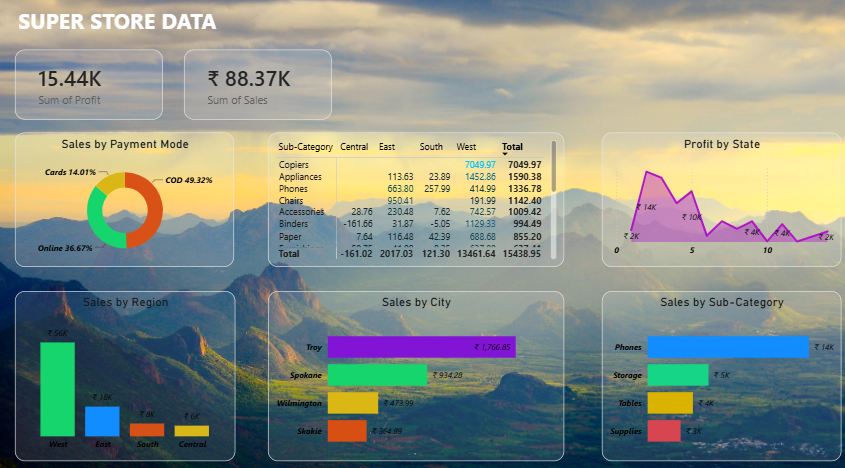

Layout of this report page (visuals, bound fields, positions):
{"tool":"powerbi","page":{"name":"Page 1","canvas":[1280,720],"ordinal":0},"visuals":[{"type":"clusteredBarChart","fields":{"Y":["Sum(Sheet1.Sales)"],"Category":["Sheet1.City"]},"box":[93.3,420,418.3,241.7],"z":0},{"type":"columnChart","fields":{"Category":["Sheet1.Region"],"Y":["Sum(Sheet1.Sales)"]},"box":[623.3,95,420,241.7],"z":1000},{"type":"donutChart","fields":{"Category":["Sheet1.Payment Mode"],"Y":["Sum(Sheet1.Sales)"]},"box":[93.3,95,353.3,275],"z":2000},{"type":"stackedAreaChart","fields":{"Category":["Sheet1.State"],"Y":["Sum(Sheet1.Profit)"]},"box":[690,386.7,353.3,275],"z":2001}]}

Visuals, with their boxes in screenshot pixels (x1, y1, x2, y2), scaled from the page's 1280x720 canvas onto the 845x468 screenshot:
clusteredBarChart - Sum(Sheet1.Sales) x Sheet1.City: x1=62, y1=273, x2=338, y2=430
columnChart - Sheet1.Region x Sum(Sheet1.Sales): x1=411, y1=62, x2=689, y2=219
donutChart - Sheet1.Payment Mode x Sum(Sheet1.Sales): x1=62, y1=62, x2=295, y2=240
stackedAreaChart - Sheet1.State x Sum(Sheet1.Profit): x1=456, y1=251, x2=689, y2=430
